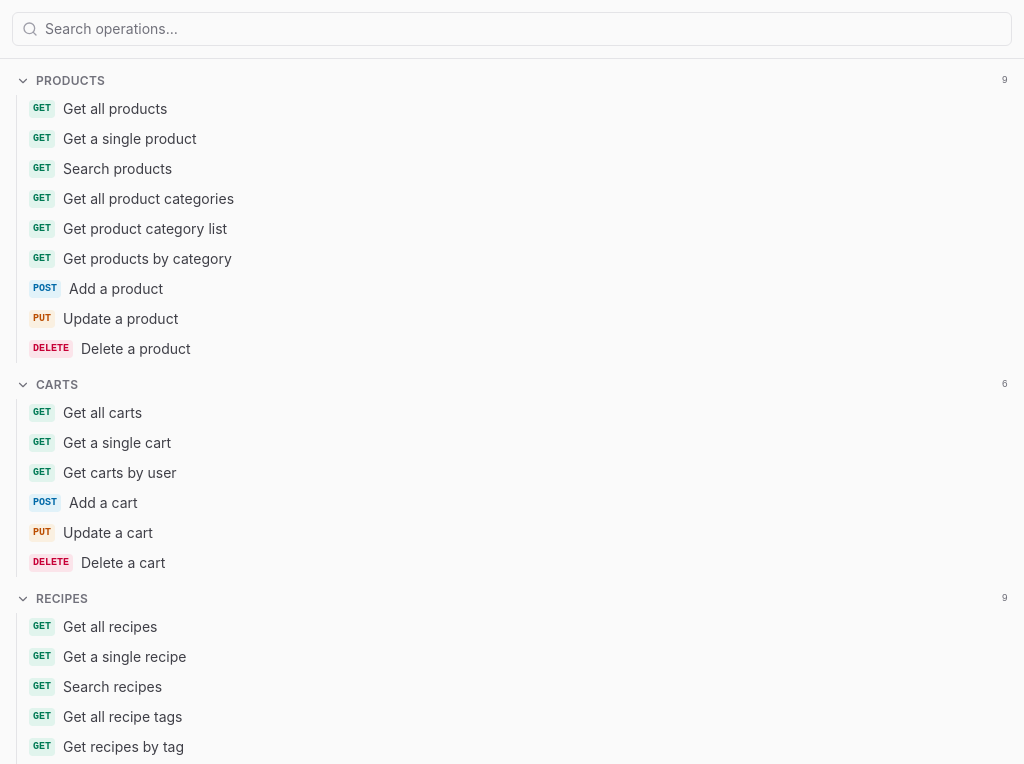
Test: OperationExplorer › filters operations by search query
Type "products/search" into the search field labelled "Search operations…".
click(512, 29); type("products/search")  # box top-left (12, 12), bottom-right (1012, 46)
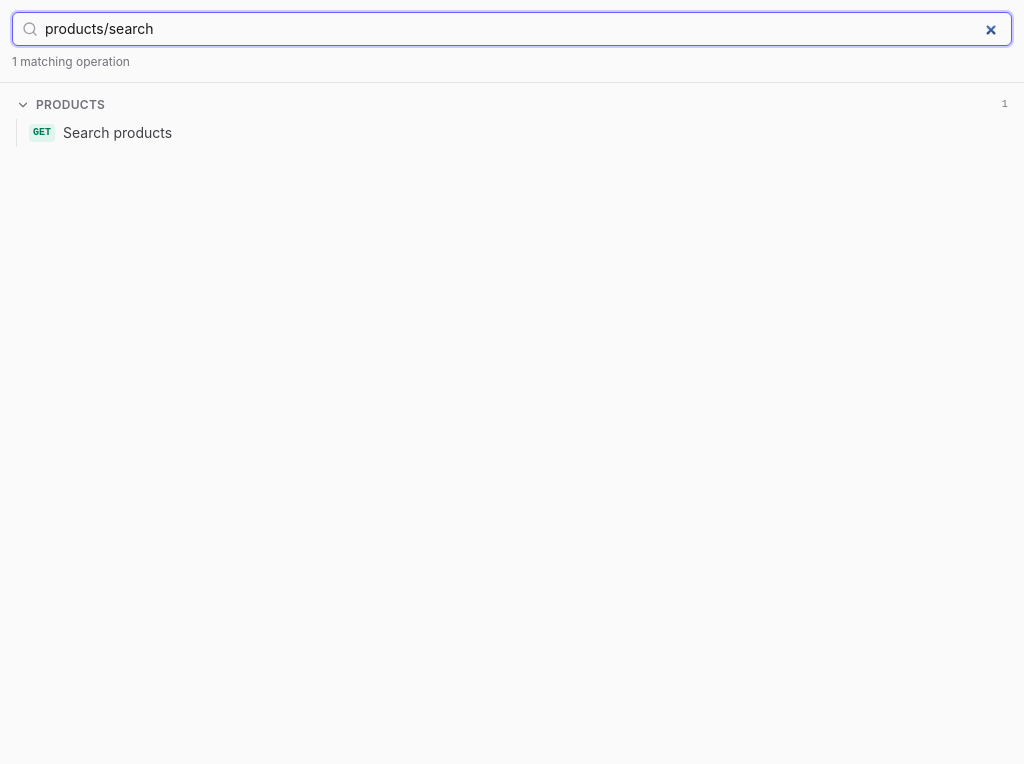
expect the text "1 matching operation" is shown: met, box top-left (12, 54), bottom-right (130, 69)
